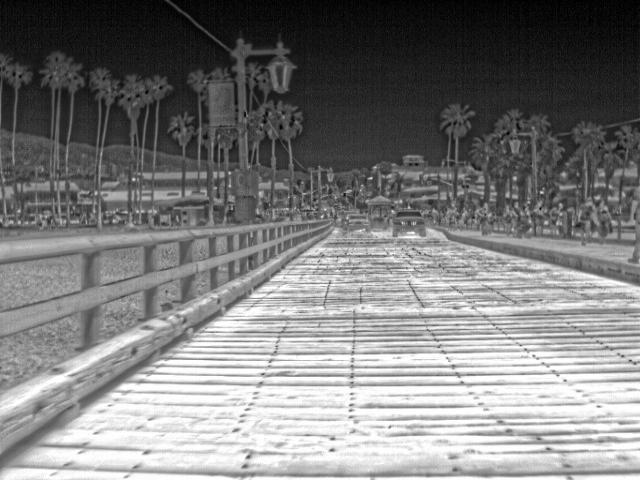car: (392, 208, 428, 237), (342, 211, 372, 231)
person: (624, 182, 640, 263), (579, 197, 598, 245), (597, 198, 615, 246), (478, 200, 496, 234), (502, 202, 517, 236), (554, 201, 567, 237)
